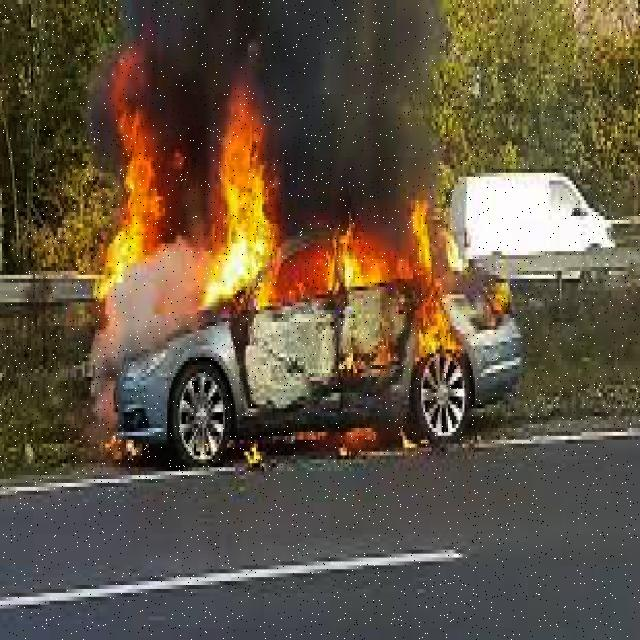fire: (332, 192, 518, 337), (104, 101, 195, 296), (218, 100, 282, 314)
smoke: (288, 9, 440, 186)
